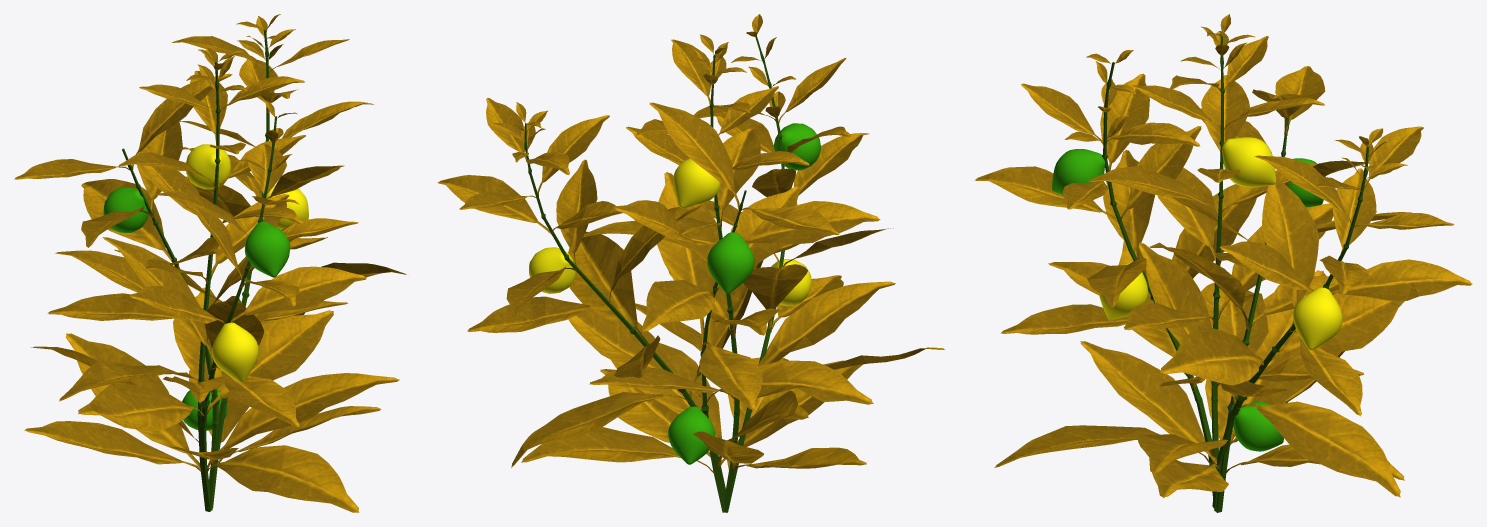
Rendered from package.dae.
The picture shows the model from 3 angles, left to right: view 1: azimuth 30°, elevation 25°; view 2: azimuth 150°, elevation 25°; view 3: azimuth 270°, elevation 25°; orthographic projection. The views are drawn at different scales.
Visible parts, largest first — view 1: Lemon Tree; view 2: Lemon Tree; view 3: Lemon Tree.
Part boxes in pixels (<box>): Lemon Tree: <box>14,14,406,512</box>; Lemon Tree: <box>438,14,944,512</box>; Lemon Tree: <box>974,14,1472,512</box>.
Bounding box in the file's own units: 0.372 × 0.3756 × 0.4106.
4 materials, 4 textured.
